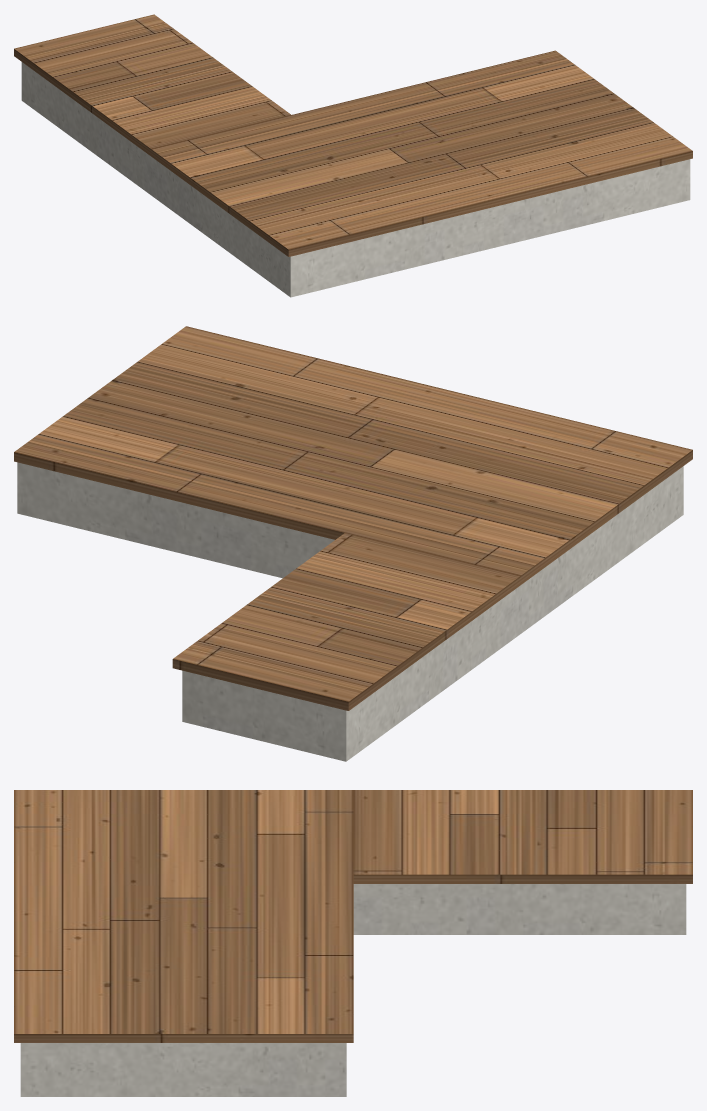
File: floor_wood_u_e0_30_0_0_h3.glb
3 renders of one model, top to bottom at view 1: azimuth 30°, elevation 25°; view 2: azimuth 150°, elevation 25°; view 3: azimuth 270°, elevation 25°, orthographic. The views are drawn at different scales.
Visible parts, largest first — view 1: floor_wood_u_e0_30_0_0_h3_floor, floor_wood_u_e0_30_0_0_h3_plaster; view 2: floor_wood_u_e0_30_0_0_h3_floor, floor_wood_u_e0_30_0_0_h3_plaster; view 3: floor_wood_u_e0_30_0_0_h3_floor, floor_wood_u_e0_30_0_0_h3_plaster.
Part boxes in pixels (bbox=[...]): floor_wood_u_e0_30_0_0_h3_floor: bbox=[14, 14, 692, 256]; floor_wood_u_e0_30_0_0_h3_plaster: bbox=[21, 62, 690, 297]; floor_wood_u_e0_30_0_0_h3_floor: bbox=[14, 326, 692, 710]; floor_wood_u_e0_30_0_0_h3_plaster: bbox=[17, 462, 683, 761]; floor_wood_u_e0_30_0_0_h3_floor: bbox=[14, 790, 692, 1042]; floor_wood_u_e0_30_0_0_h3_plaster: bbox=[20, 884, 686, 1096].
Bounding box in the file's own units: 1.7 × 0.205 × 2.
Materials: 2 (2 with a texture image).
